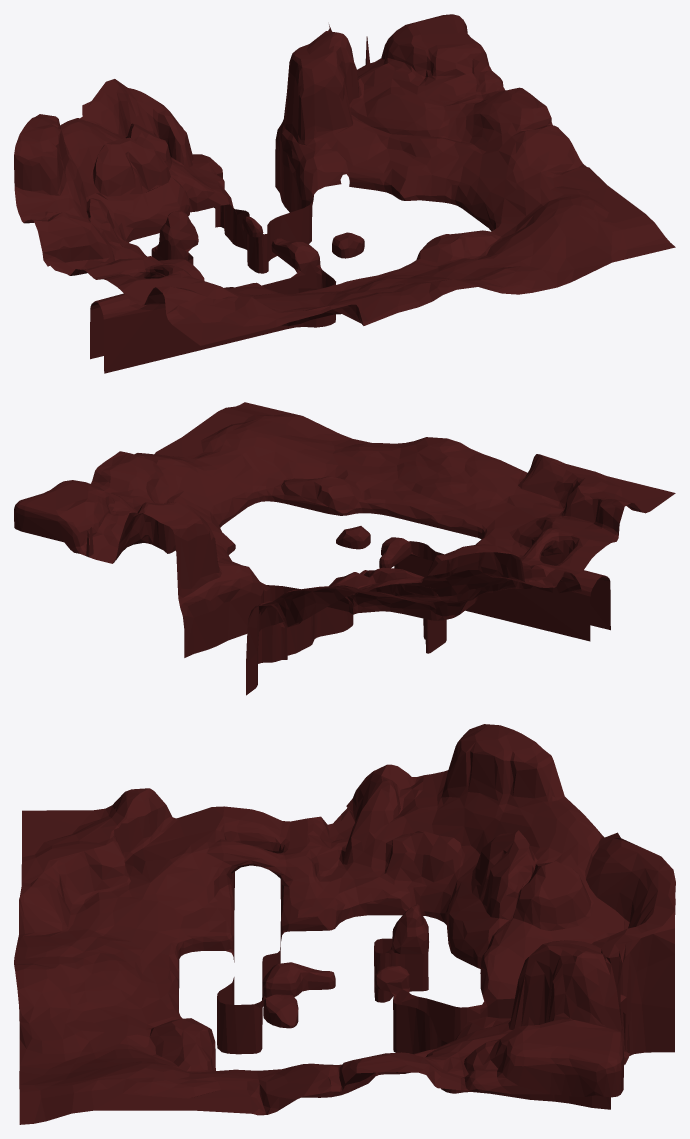
The model's file is TerrainLevel1_Borders.FBX.
3 renders of one model, top to bottom at view 1: azimuth 30°, elevation 25°; view 2: azimuth 150°, elevation 25°; view 3: azimuth 270°, elevation 25°, orthographic. The views are drawn at different scales.
Visible parts, largest first — view 1: terrain; view 2: terrain; view 3: terrain.
Boxes of the visible parts, x1=… form: terrain: x1=14, y1=14, x2=675, y2=373; terrain: x1=14, y1=402, x2=675, y2=695; terrain: x1=14, y1=724, x2=675, y2=1124.
Bounding box in the file's own units: 16405 × 4783 × 14256.
